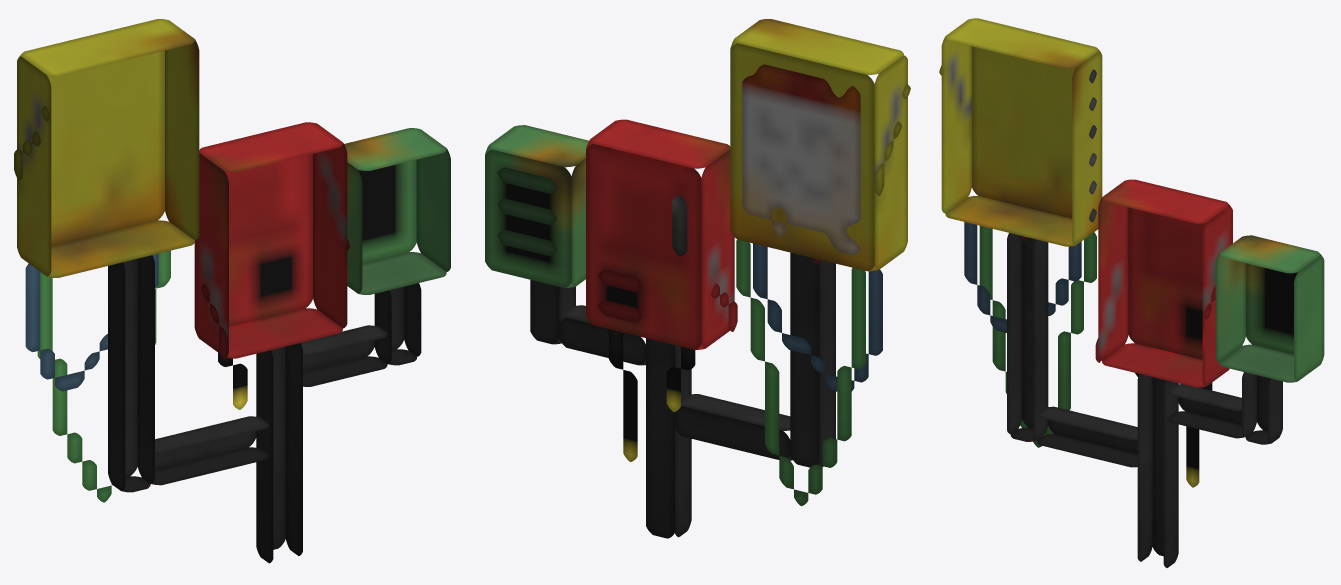
Rendered from wireBoxB.fbx.
3 views of the same model, side by side, from view 1: azimuth 30°, elevation 25°; view 2: azimuth 150°, elevation 25°; view 3: azimuth 330°, elevation 25° (orthographic). The views are drawn at different scales.
Parts seen in each view (by area): view 1: cube_1, cube, cube_2, cube_5, cube_3, cube_4, cube_6, plane_2, cube_7, plane_1, plane, shell_1; view 2: cube, cube_1, shell_1, cube_2, cube_5, cube_3, plane_2, cube_4, plane_1, plane, shell_2, shell (+2 smaller); view 3: cube_1, cube, cube_2, cube_5, cube_3, plane_2, cube_4, cube_6, cube_7, plane_1, plane, shell_1.
Boxes of the visible parts, left/top/right/bottom form: cube_1: left=17, top=19, right=199, bottom=277; cube: left=194, top=122, right=347, bottom=358; cube_2: left=344, top=128, right=450, bottom=294; cube_5: left=108, top=255, right=154, bottom=492; cube_3: left=256, top=343, right=302, bottom=563; cube_4: left=151, top=416, right=268, bottom=485; cube_6: left=301, top=325, right=387, bottom=386; plane_2: left=37, top=250, right=170, bottom=502; cube_7: left=374, top=283, right=421, bottom=365; plane_1: left=25, top=253, right=158, bottom=391; plane: left=218, top=353, right=247, bottom=409; shell_1: left=14, top=106, right=50, bottom=180; cube: left=586, top=119, right=734, bottom=349; cube_1: left=730, top=19, right=907, bottom=271; shell_1: left=742, top=64, right=910, bottom=255; cube_2: left=485, top=125, right=588, bottom=287; cube_5: left=790, top=252, right=835, bottom=467; cube_3: left=646, top=338, right=691, bottom=538; plane_2: left=736, top=239, right=865, bottom=506; cube_4: left=675, top=394, right=792, bottom=460; plane_1: left=753, top=243, right=882, bottom=391; plane: left=608, top=329, right=695, bottom=461; shell_2: left=497, top=167, right=556, bottom=255; shell: left=598, top=195, right=737, bottom=331; cube_1: left=941, top=18, right=1102, bottom=246; cube: left=1098, top=179, right=1232, bottom=387; cube_2: left=1215, top=235, right=1324, bottom=382; cube_5: left=1007, top=233, right=1048, bottom=441; cube_3: left=1137, top=374, right=1178, bottom=567; plane_2: left=979, top=226, right=1096, bottom=447; cube_4: left=1037, top=406, right=1137, bottom=467; cube_6: left=1167, top=384, right=1244, bottom=438; cube_7: left=1242, top=372, right=1282, bottom=444; plane_1: left=964, top=222, right=1081, bottom=332; plane: left=1135, top=373, right=1212, bottom=487; shell_1: left=939, top=65, right=1096, bottom=222.
Bounding box in the file's own units: 170 × 220 × 26.56.
1 material, 1 textured.
